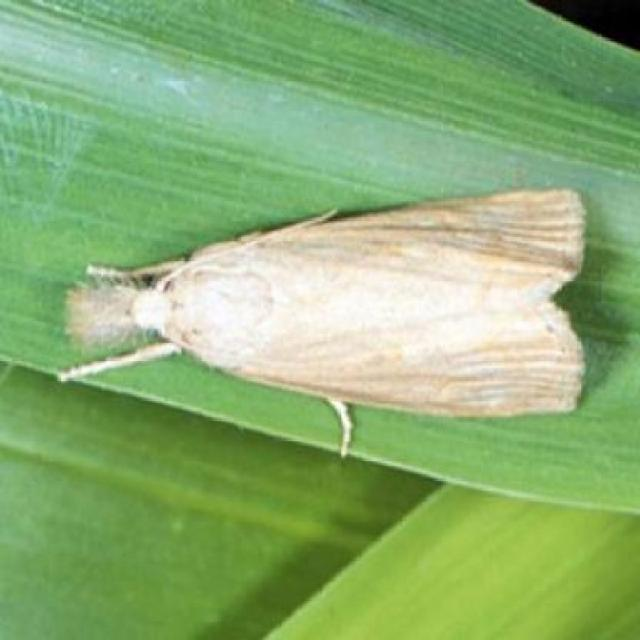stem-borer: (55, 186, 590, 454)
